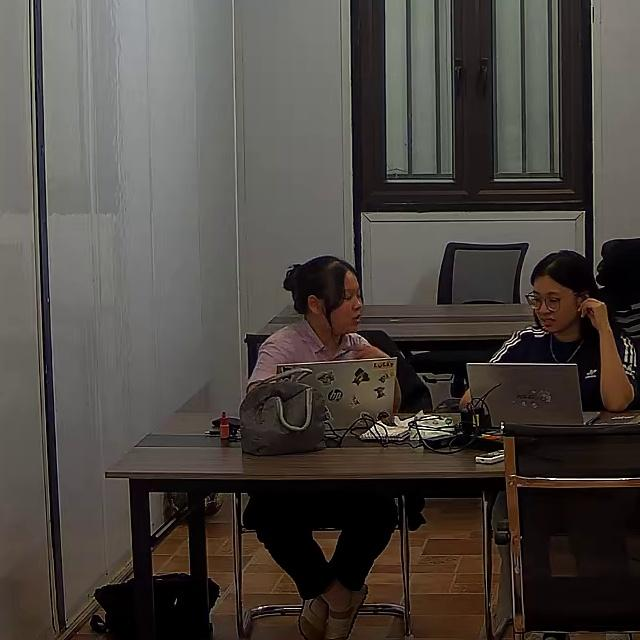no_helmet: (283, 255, 363, 317), (527, 250, 597, 310)
none: (485, 323, 639, 412), (244, 318, 372, 397)
